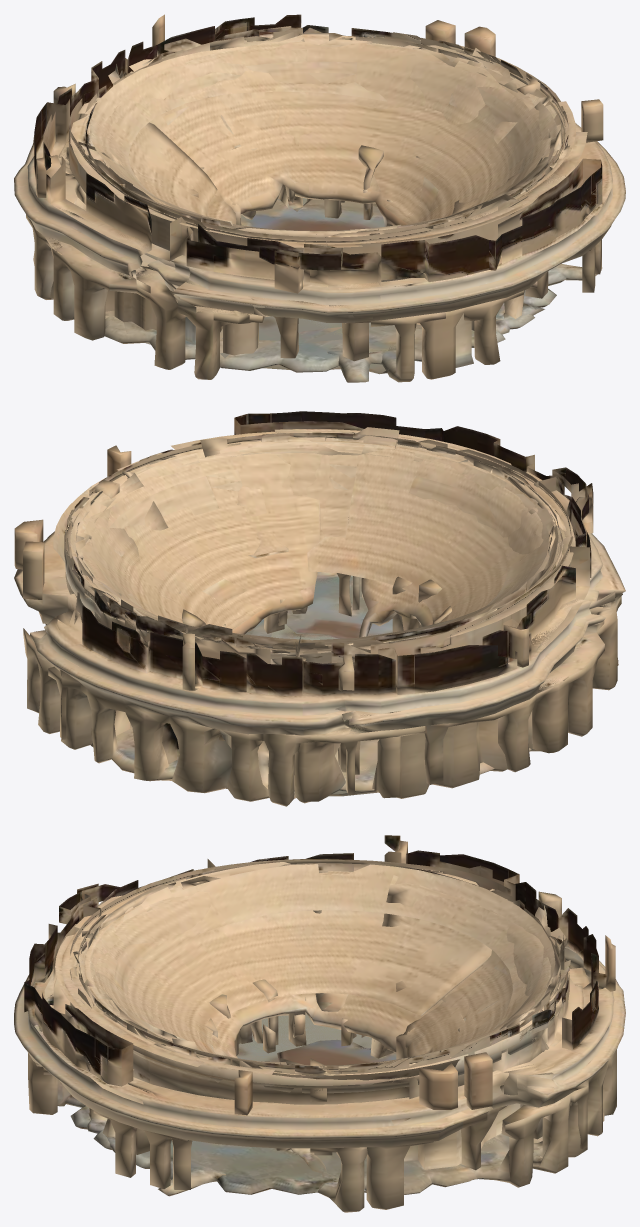
File: monumento-coliseo.glb
3 renders of one model, top to bottom at view 1: azimuth 30°, elevation 25°; view 2: azimuth 150°, elevation 25°; view 3: azimuth 270°, elevation 25°, orthographic. The views are drawn at different scales.
Size of the model in its own units: 1.79 by 0.5166 by 1.87.
1 material, 1 textured.
